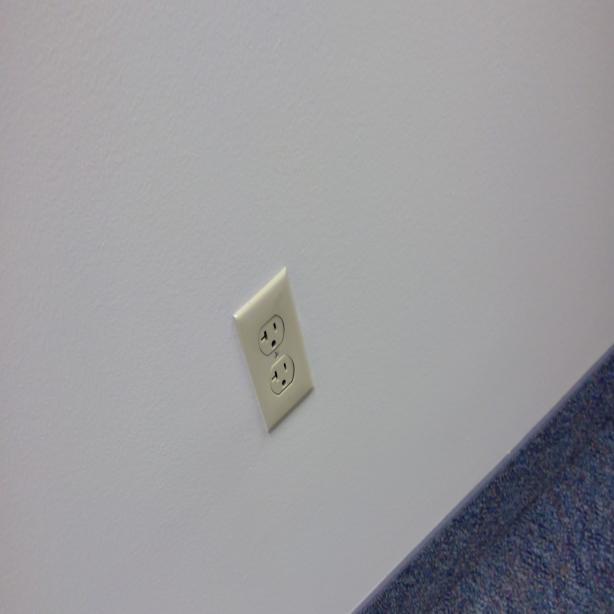typeb: (269, 360, 295, 394), (256, 316, 282, 350)
